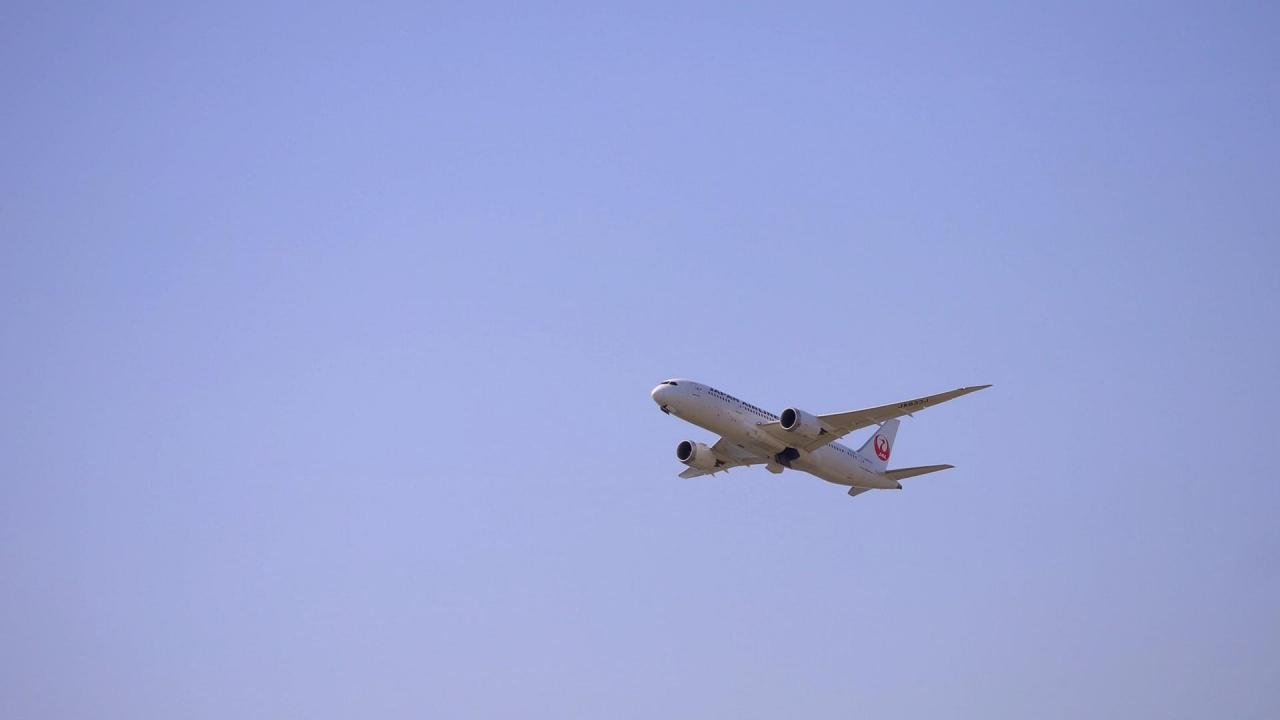Airplane: (636, 363, 1000, 510)
